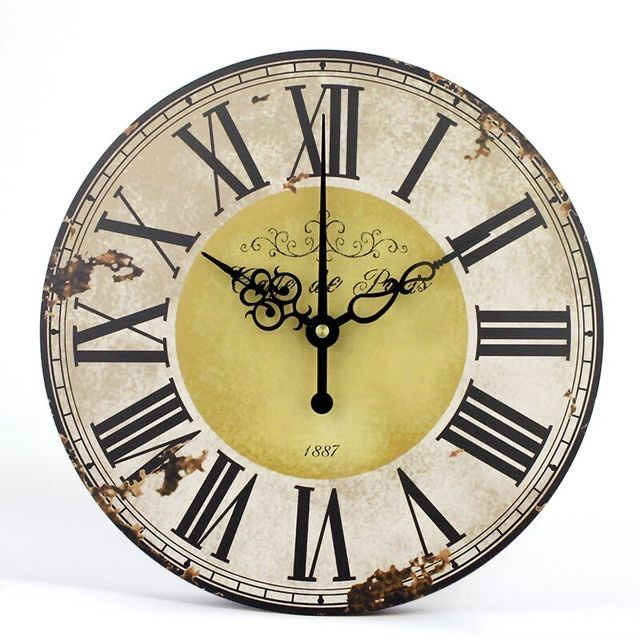clock: (43, 53, 630, 617)
